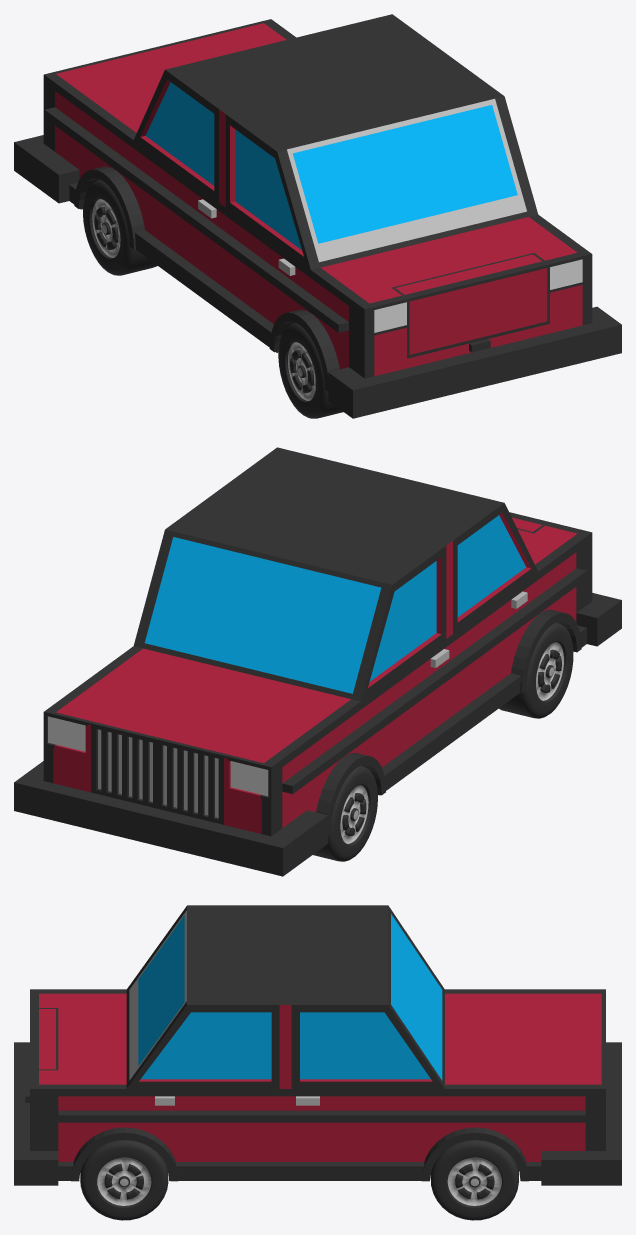
The model's file is car.fbx.
The picture shows the model from 3 angles, top to bottom: view 1: azimuth 30°, elevation 25°; view 2: azimuth 150°, elevation 25°; view 3: azimuth 270°, elevation 25°; orthographic projection. The views are drawn at different scales.
Visible parts, largest first — view 1: Cylinder.009, Cylinder.004, Cylinder.012; view 2: Cylinder.009, Cylinder.012, Cylinder.004; view 3: Cylinder.009, Cylinder.013, Cylinder.014.
Boxes of the visible parts, left/top/right/bottom form: Cylinder.009: left=14, top=14, right=621, bottom=418; Cylinder.004: left=83, top=179, right=157, bottom=275; Cylinder.012: left=278, top=322, right=343, bottom=418; Cylinder.009: left=14, top=447, right=621, bottom=876; Cylinder.012: left=499, top=622, right=573, bottom=718; Cylinder.004: left=313, top=765, right=377, bottom=861; Cylinder.009: left=14, top=905, right=621, bottom=1185; Cylinder.013: left=80, top=1140, right=168, bottom=1220; Cylinder.014: left=430, top=1140, right=518, bottom=1220.
Size of the model in its own units: 692 by 581 by 1510.
